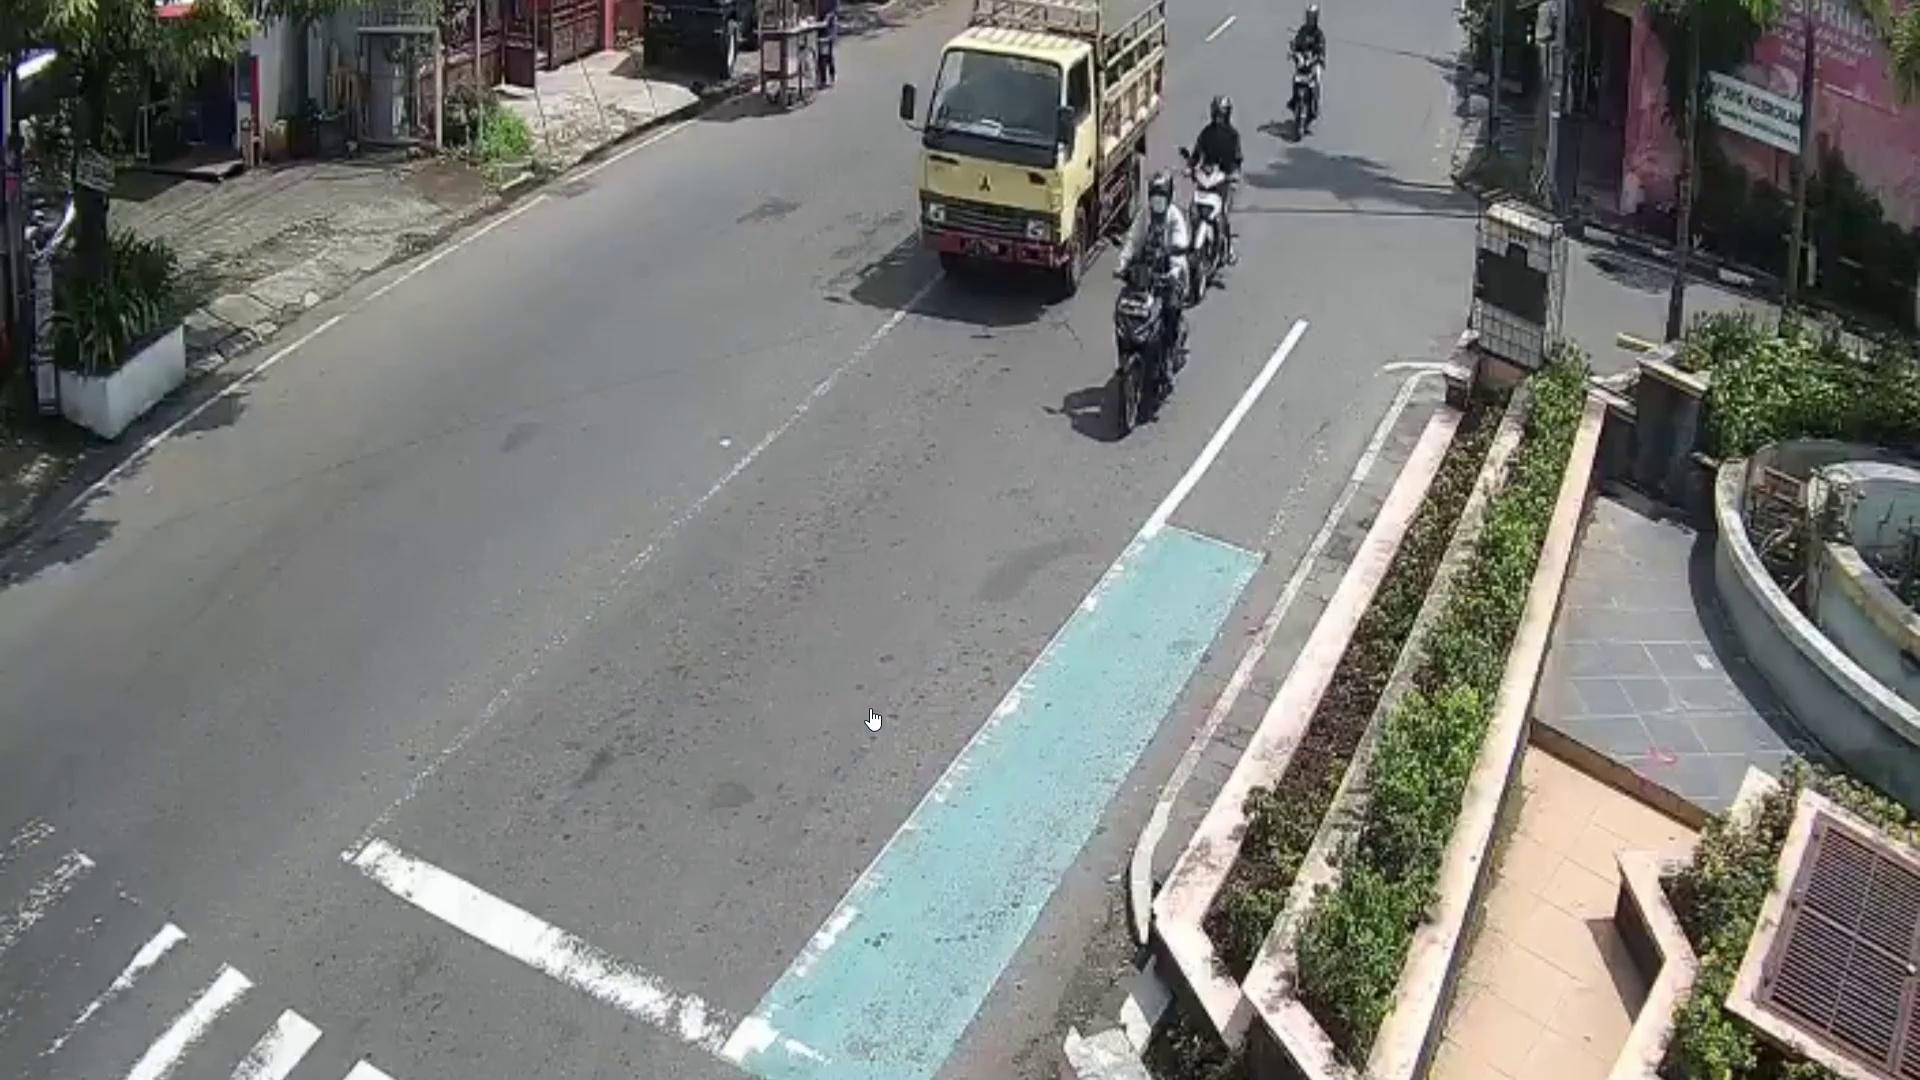motorbike: (1108, 255, 1185, 431), (1184, 160, 1236, 298)
truck: (924, 28, 1163, 298)
